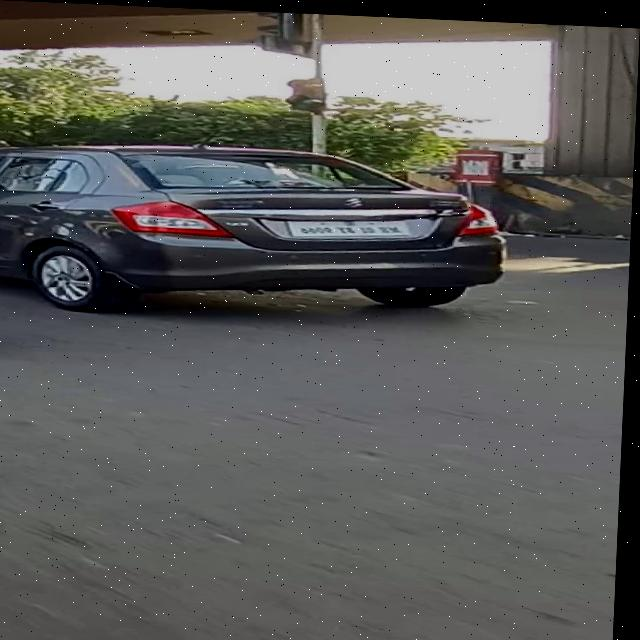plate: (288, 211, 417, 239)
